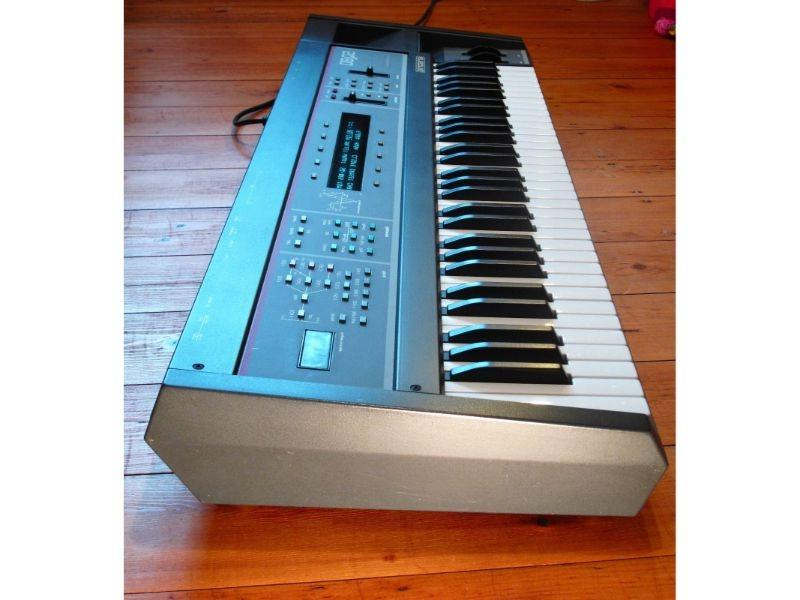synthesizer: (166, 15, 665, 555)
